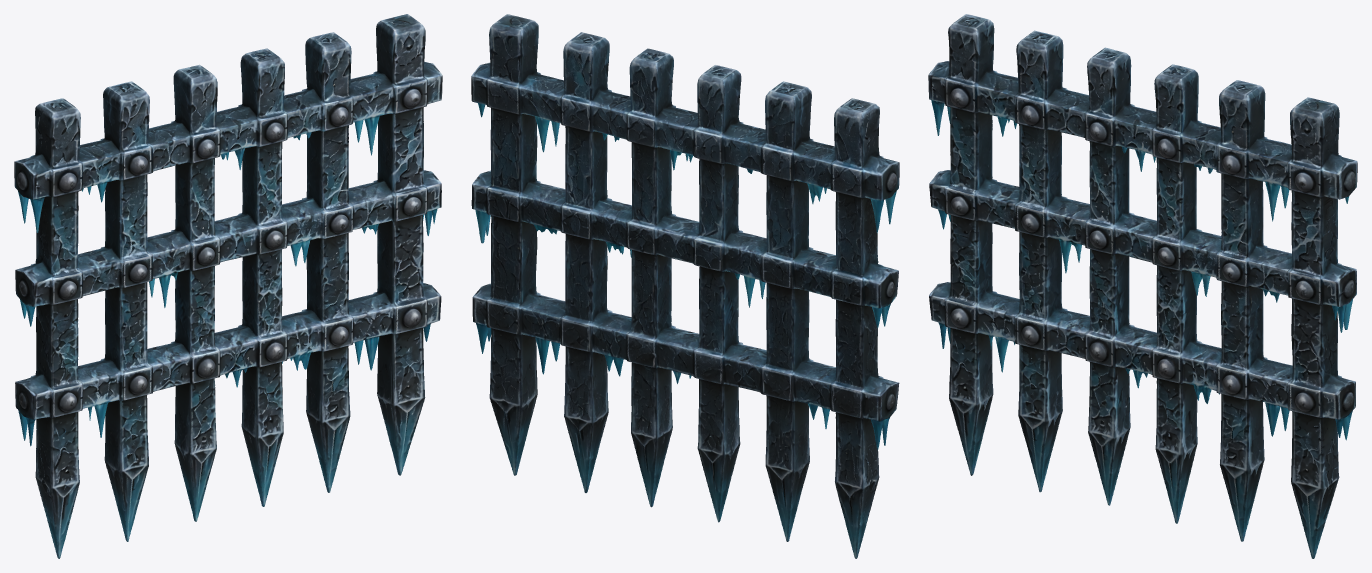
The model's file is Ice_Gate.fbx.
The picture shows the model from 3 angles, left to right: view 1: azimuth 30°, elevation 25°; view 2: azimuth 150°, elevation 25°; view 3: azimuth 330°, elevation 25°; orthographic projection.
Visible parts, largest first — view 1: model; view 2: model; view 3: model.
Part boxes in pixels (x1,y1,x2,y2): model: [14, 14, 442, 558]; model: [471, 14, 899, 558]; model: [928, 14, 1357, 558].
Size of the model in its own units: 176 by 181 by 17.94.
Materials: 1 (1 with a texture image).
